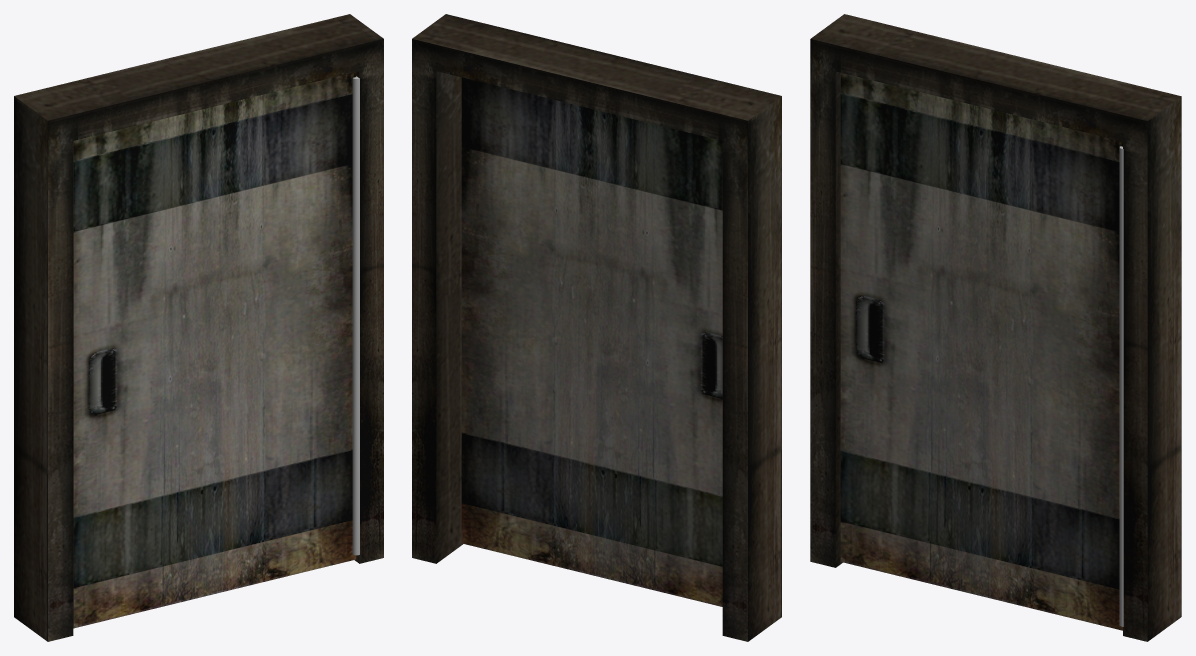
Rendered from door_residental.dae.
3 renders of one model, left to right at view 1: azimuth 30°, elevation 25°; view 2: azimuth 150°, elevation 25°; view 3: azimuth 330°, elevation 25°, orthographic.
Parts seen in each view (by area): view 1: door, frame, _joint_hinge_door_null_0_120_nocollide_joint1; view 2: door, frame; view 3: door, frame, _joint_hinge_door_null_0_120_nocollide_joint1.
Part boxes in pixels (x1=…): door: x1=73, y1=72, x2=356, y2=628; frame: x1=14, y1=14, x2=383, y2=641; _joint_hinge_door_null_0_120_nocollide_joint1: x1=352, y1=76, x2=359, y2=555; door: x1=461, y1=77, x2=722, y2=606; frame: x1=412, y1=14, x2=781, y2=641; door: x1=840, y1=73, x2=1122, y2=630; frame: x1=810, y1=14, x2=1181, y2=641; _joint_hinge_door_null_0_120_nocollide_joint1: x1=1119, y1=146, x2=1123, y2=626.
Size of what is drawn, in the model's own units: 1.5 by 2.22 by 0.2634.
